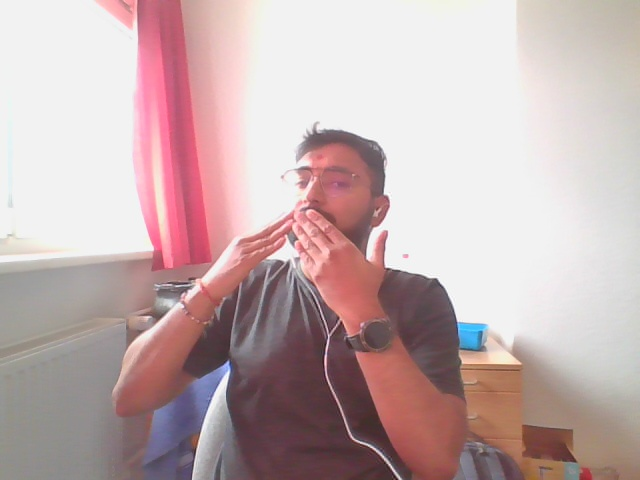ThankYou: (209, 208, 388, 307)
